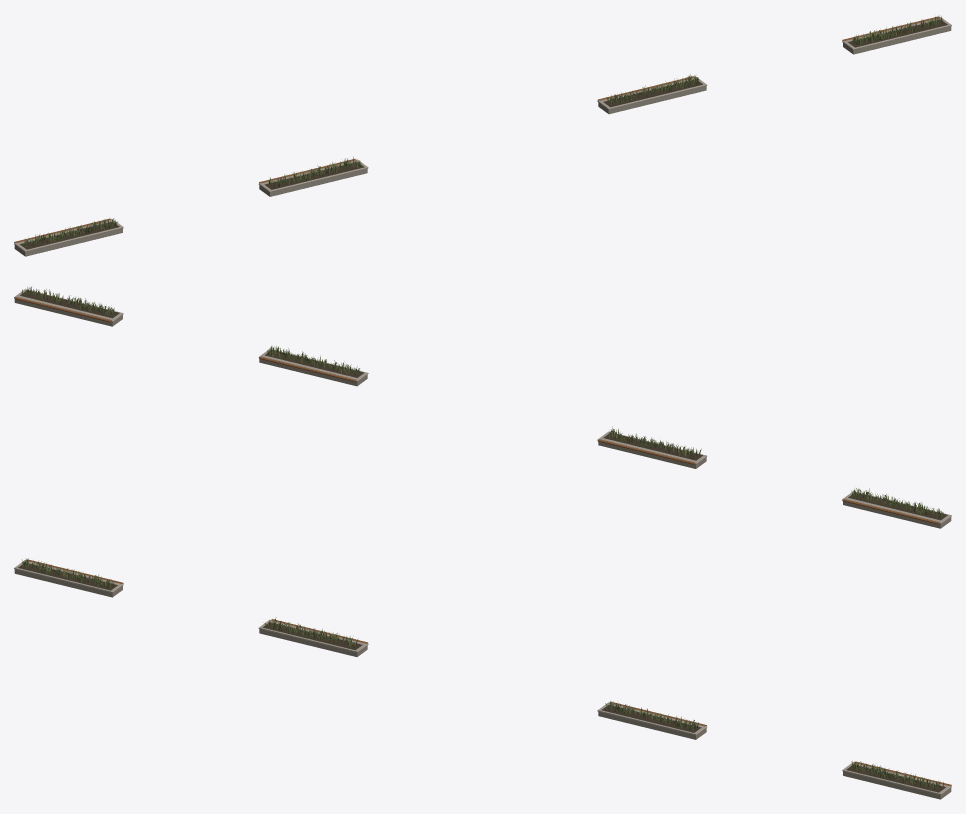
File: entrance-planters.glb
The picture shows the model from 3 angles, top to bottom: view 1: azimuth 30°, elevation 25°; view 2: azimuth 150°, elevation 25°; view 3: azimuth 330°, elevation 25°; orthographic projection.
Visible parts, largest first — view 1: 入口花池与座椅; view 2: 入口花池与座椅; view 3: 入口花池与座椅.
Part boxes in pixels (box(x1,y1,x2,y2)): 入口花池与座椅: box(14, 15, 951, 256); 入口花池与座椅: box(14, 286, 951, 528); 入口花池与座椅: box(14, 558, 951, 799).
Size of the model in its own units: 73.88 by 1.03 by 1.68.
